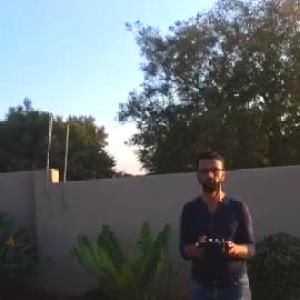follow: (176, 142, 266, 299)
